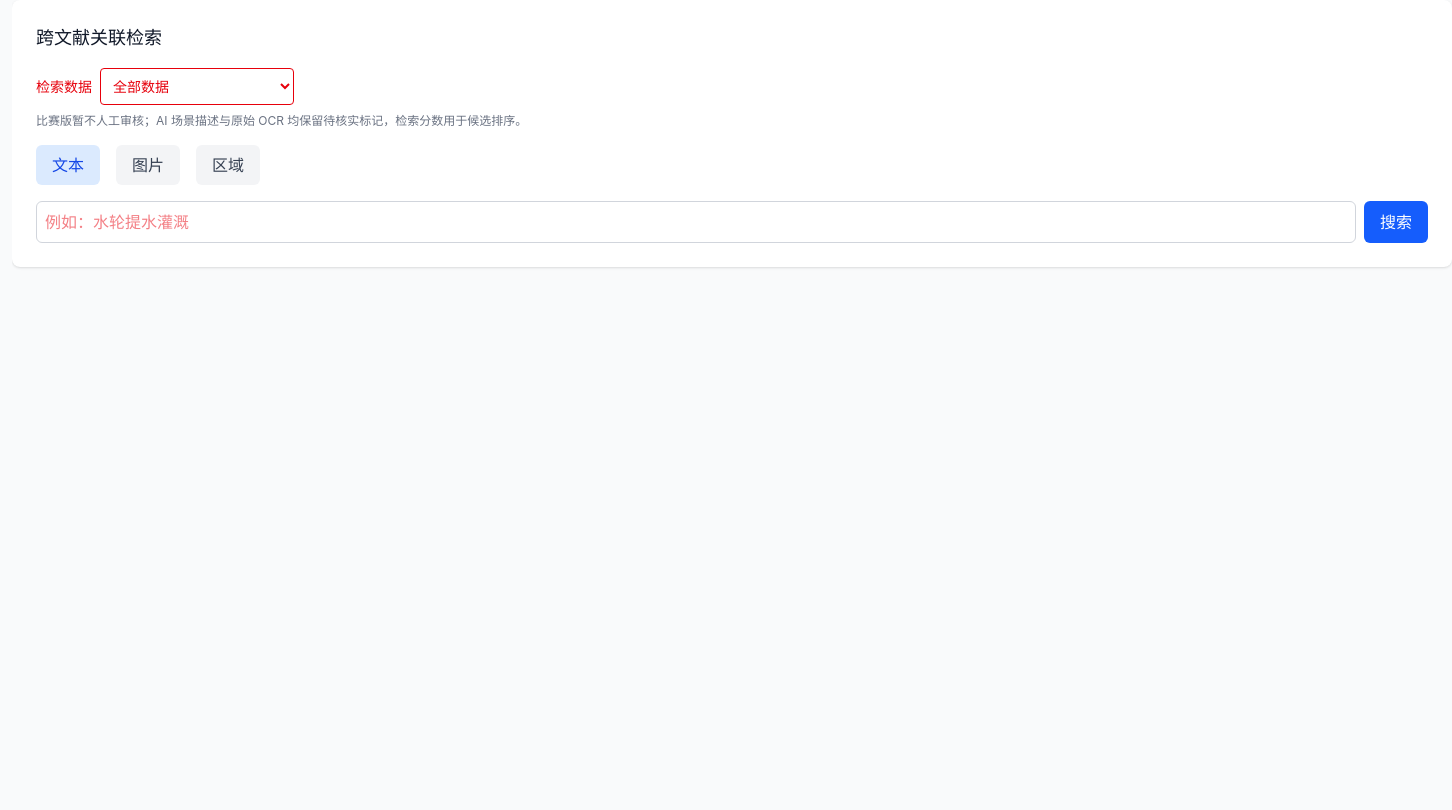
Test: SearchPage › can submit a text search
Type "test query" into the field with placeholder "例如：水轮提水灌溉" at {"x": 696, "y": 222}, box [36,201,1356,243]
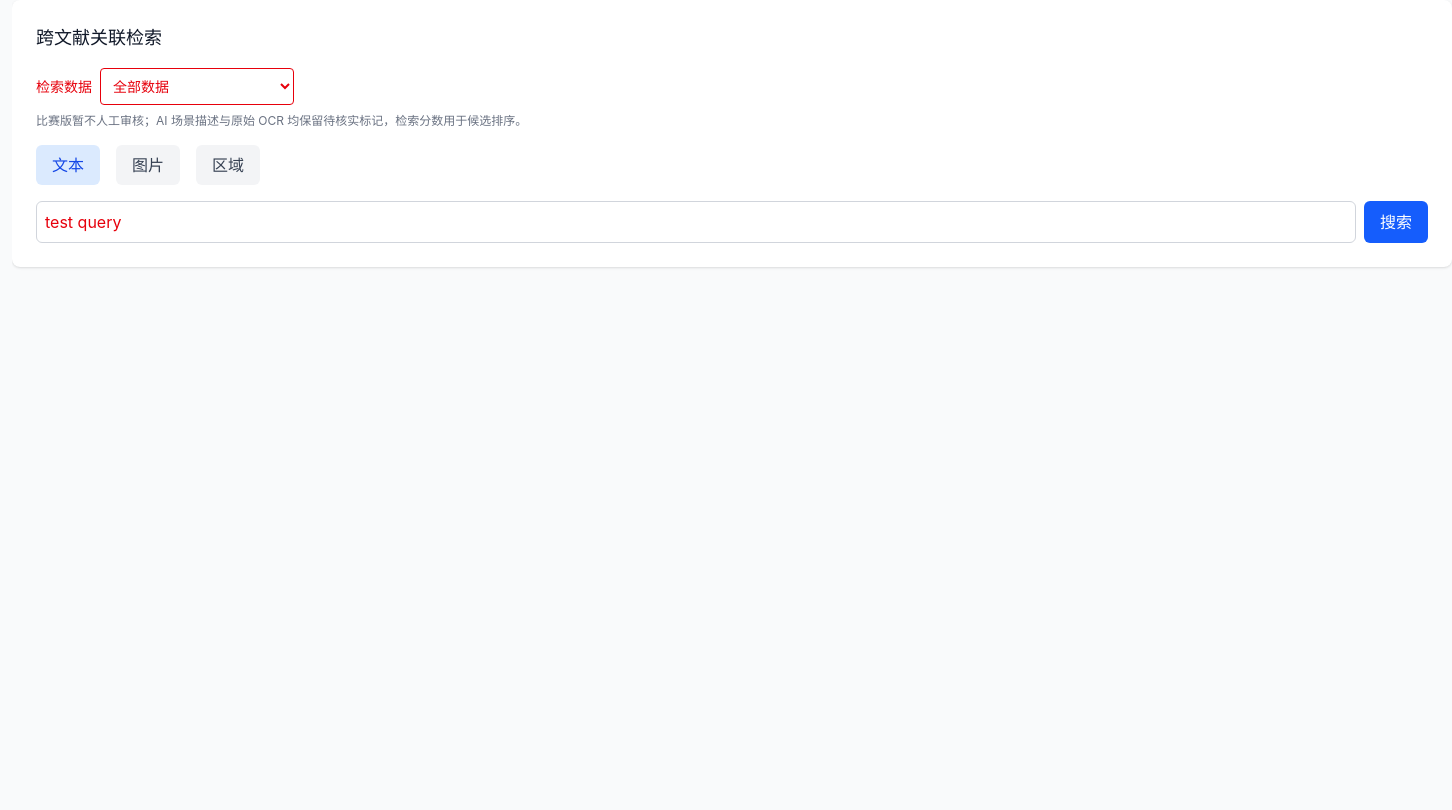
Click the button "搜索" at {"x": 1396, "y": 222}, box [1364,201,1428,243]
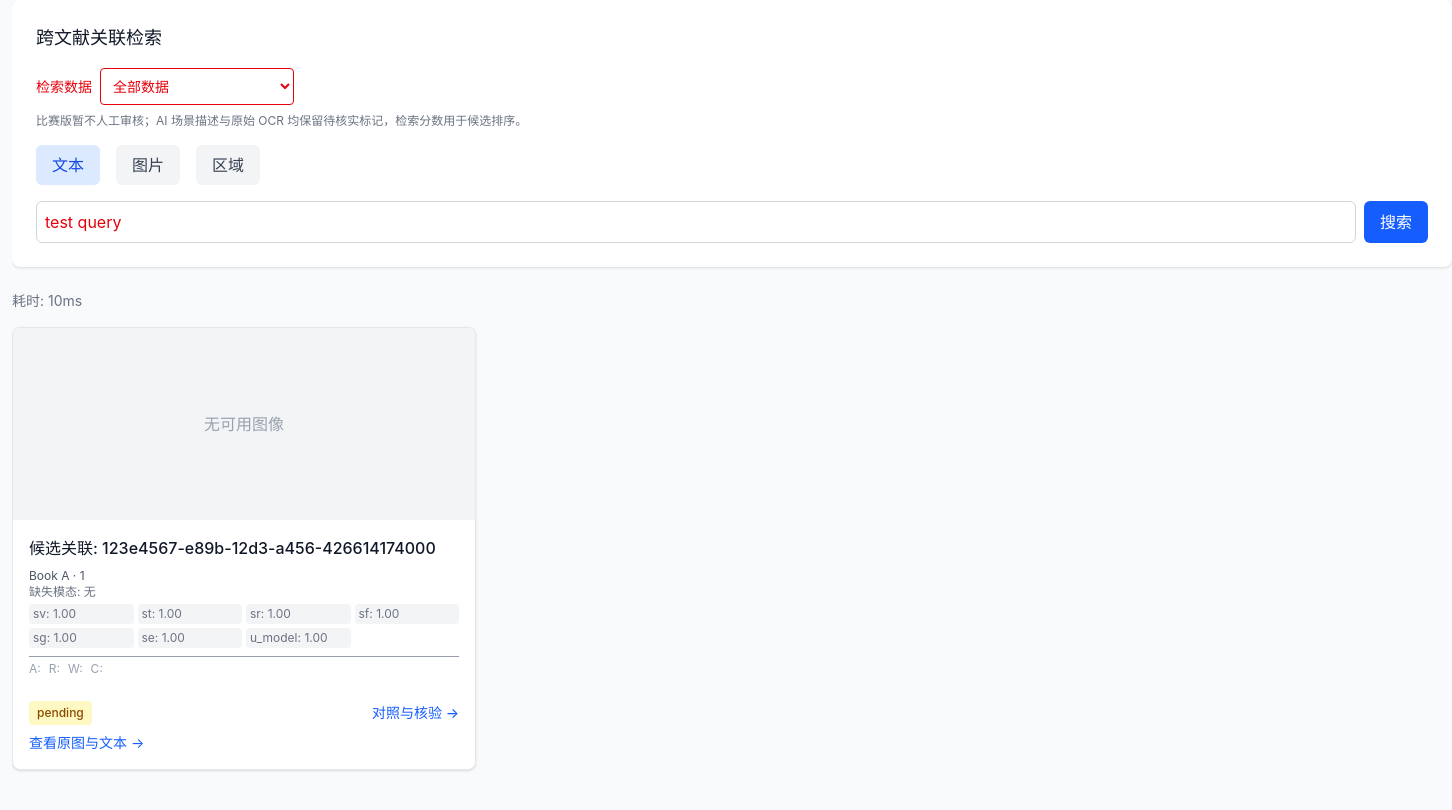
Now the heading "候选关联: 123e4567-e89b-12d3-a456-426614174000" is shown, box [29,536,459,560]
